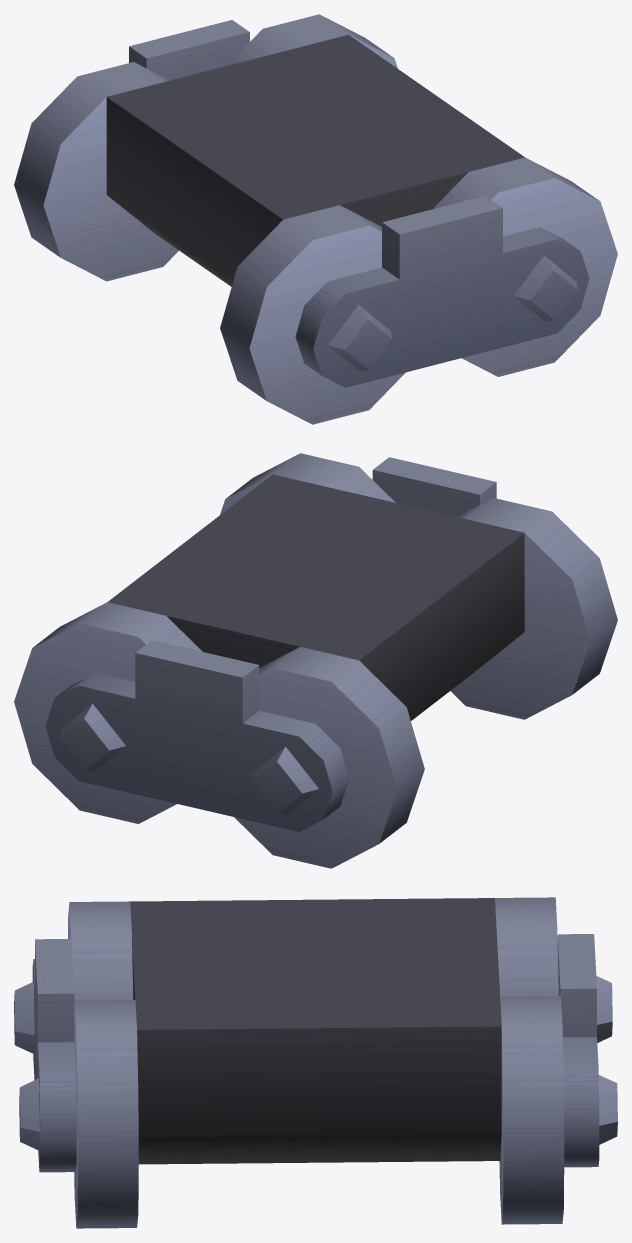
File: wheels-back_lev2.glb
3 renders of one model, top to bottom at view 1: azimuth 30°, elevation 25°; view 2: azimuth 150°, elevation 25°; view 3: azimuth 270°, elevation 25°, orthographic. The views are drawn at different scales.
Visible parts, largest first — view 1: wheels-back_lev2; view 2: wheels-back_lev2; view 3: wheels-back_lev2.
Part boxes in pixels (x1=…): wheels-back_lev2: x1=14, y1=14, x2=617, y2=424; wheels-back_lev2: x1=14, y1=453, x2=617, y2=868; wheels-back_lev2: x1=14, y1=897, x2=617, y2=1228.
Size of the model in its own units: 0.779 by 0.3595 by 0.9935.
1 material, 1 textured.
